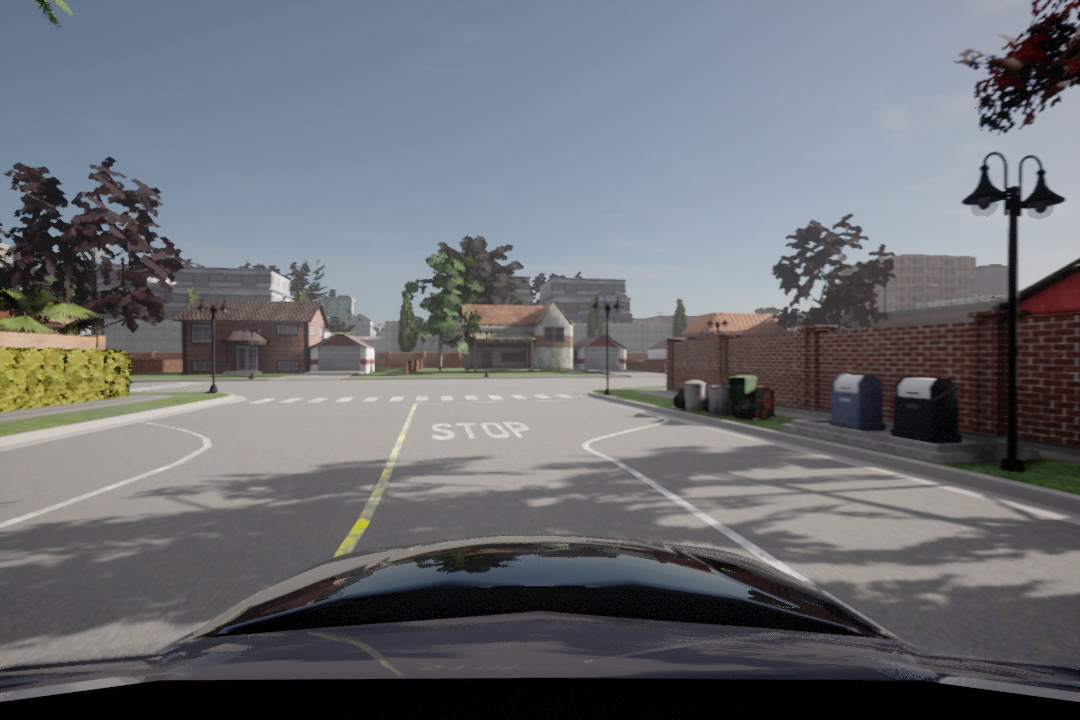walkside: (241, 392, 595, 406)
